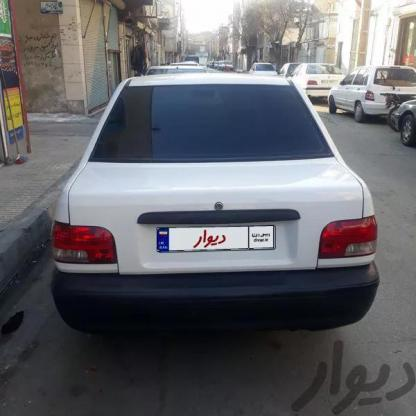Car: (50, 65, 381, 326), (331, 61, 416, 126), (283, 57, 339, 96)
